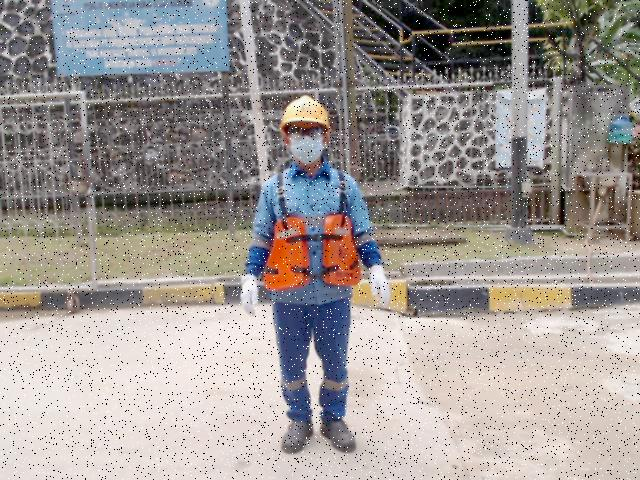glasses: (287, 127, 324, 140)
gloves: (366, 264, 393, 310), (237, 273, 262, 319)
helmet: (277, 94, 336, 131)
mask: (291, 139, 324, 162)
safety-shoes: (318, 415, 360, 455), (278, 416, 315, 456)
vest: (261, 212, 363, 291)
